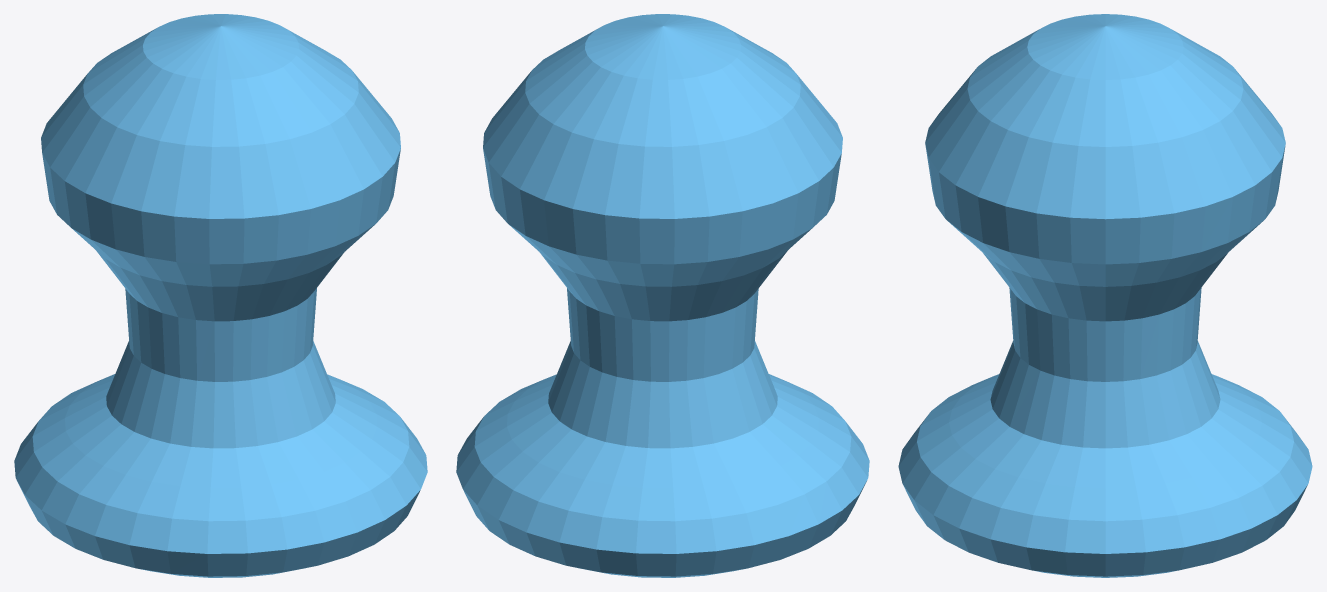
File: player_pawn_lightblue_no_shadow.obj
The picture shows the model from 3 angles, left to right: view 1: azimuth 30°, elevation 25°; view 2: azimuth 150°, elevation 25°; view 3: azimuth 270°, elevation 25°; orthographic projection.
Parts seen in each view (by area): view 1: PlayerPawnLightBlue; view 2: PlayerPawnLightBlue; view 3: PlayerPawnLightBlue.
Boxes of the visible parts, x1,y1,x2,y2 form: PlayerPawnLightBlue: (14, 14, 427, 577); PlayerPawnLightBlue: (456, 14, 869, 577); PlayerPawnLightBlue: (898, 14, 1312, 577).
Size of the model in its own units: 0.45 by 0.58 by 0.45.
